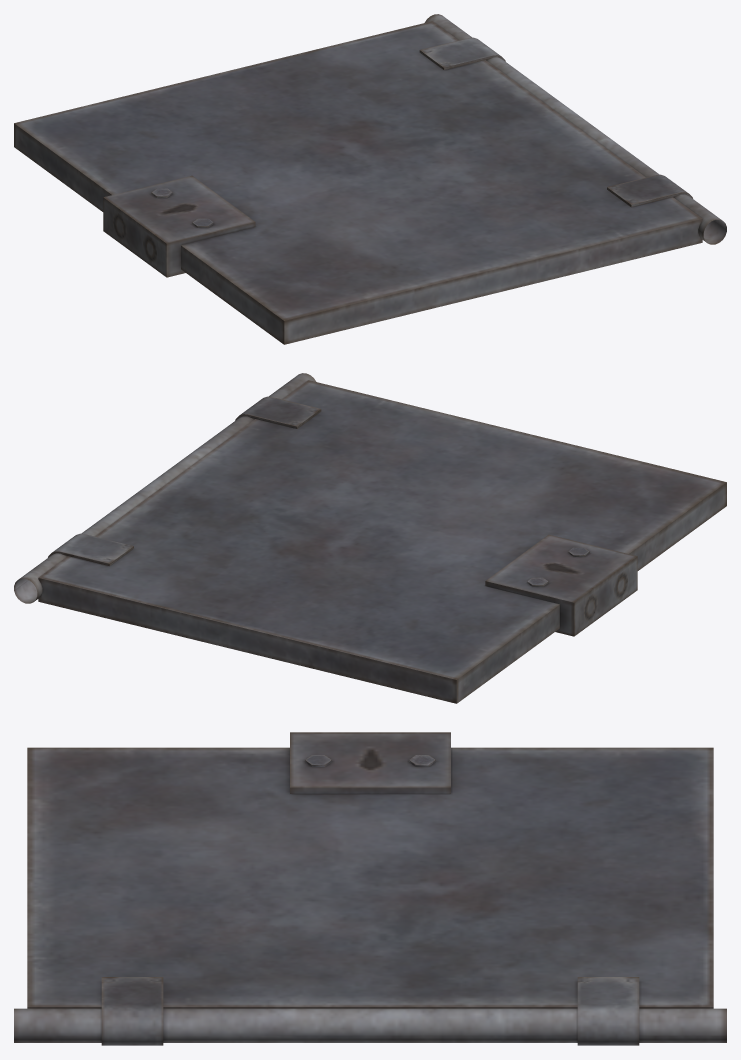
The model's file is Cell_2_Door.fbx.
3 renders of one model, top to bottom at view 1: azimuth 30°, elevation 25°; view 2: azimuth 150°, elevation 25°; view 3: azimuth 270°, elevation 25°, orthographic. The views are drawn at different scales.
Parts seen in each view (by area): view 1: Cell_2_Door; view 2: Cell_2_Door; view 3: Cell_2_Door.
Boxes of the visible parts, x1,y1,x2,y2 form: Cell_2_Door: [14, 14, 726, 344]; Cell_2_Door: [14, 373, 726, 703]; Cell_2_Door: [14, 732, 726, 1045].
Size of the model in its own units: 55.27 by 4.13 by 59.28.
